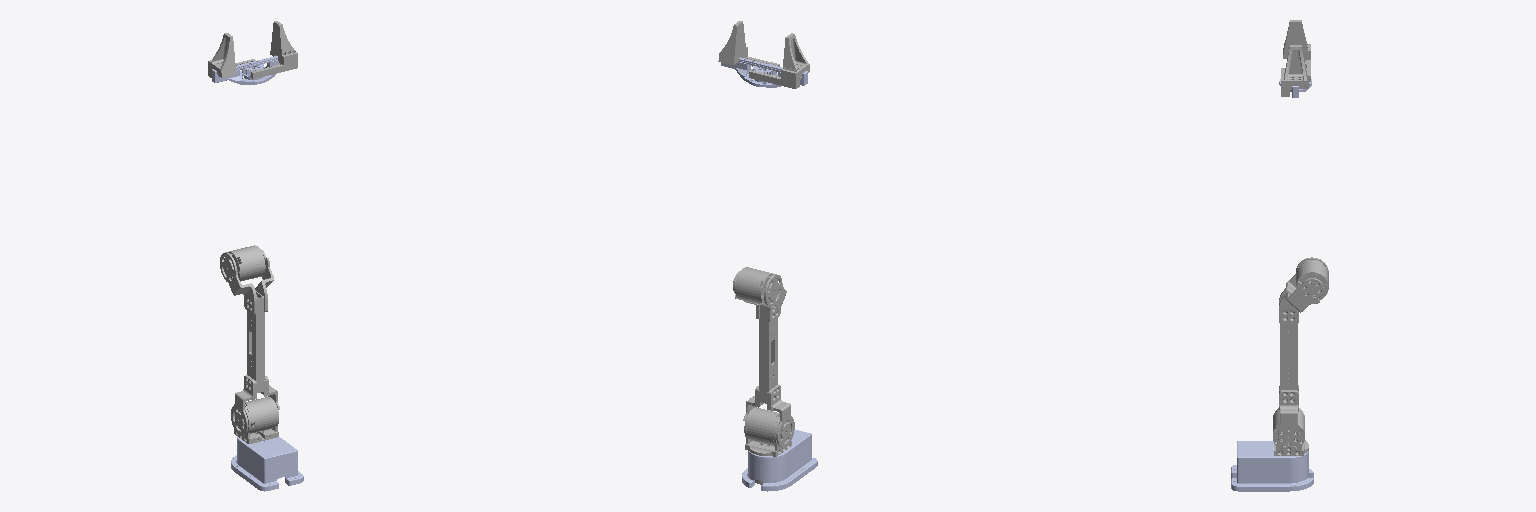
The robot description file, URDF, robot "Alicia_M_v1_0":
<?xml version="1.0" encoding="utf-8"?>
<!-- This URDF was automatically created by SolidWorks to URDF Exporter! Originally created by Stephen Brawner (brawner@gmail.com) 
     Commit Version: 1.6.0-4-g7f85cfe  Build Version: 1.6.7995.38578
     For more information, please see http://wiki.ros.org/sw_urdf_exporter -->
<robot
  name="Alicia_M_v1_0">
  <mujoco>
    <compiler meshdir="../../meshes/Alicia_M_v1_0/gripper_100mm/" balanceinertia="true" discardvisual="false" />
  </mujoco>
  <link
    name="base_link">
    <inertial>
      <origin
        xyz="7.4519E-11 -0.037929 0.033794"
        rpy="0 0 0" />
      <mass
        value="0.17762" />
      <inertia
        ixx="0.00038702"
        ixy="1.5952E-13"
        ixz="1.0229E-12"
        iyy="0.00045801"
        iyz="-3.0785E-06"
        izz="0.00022443" />
    </inertial>
    <visual>
      <origin
        xyz="0 0 0"
        rpy="0 0 0" />
      <geometry>
        <mesh
          filename="package://alicia_d_descriptions/meshes/Alicia_M_v1_0/gripper_100mm/base_link.STL" />
      </geometry>
      <material
        name="">
        <color
          rgba="0.79608 0.82353 0.93725 1" />
      </material>
    </visual>
    <collision>
      <origin
        xyz="0 0 0"
        rpy="0 0 0" />
      <geometry>
        <mesh
          filename="package://alicia_d_descriptions/meshes/Alicia_M_v1_0/gripper_100mm/base_link.STL" />
      </geometry>
    </collision>
  </link>
  <link
    name="link1">
    <inertial>
      <origin
        xyz="0.00023895 -0.00092465 0.0061005"
        rpy="0 0 0" />
      <mass
        value="0.87143" />
      <inertia
        ixx="0.00029657"
        ixy="-2.3651E-07"
        ixz="-3.3861E-08"
        iyy="0.00033942"
        iyz="1.0662E-07"
        izz="0.0003321" />
    </inertial>
    <visual>
      <origin
        xyz="0 0 0"
        rpy="0 0 0" />
      <geometry>
        <mesh
          filename="package://alicia_d_descriptions/meshes/Alicia_M_v1_0/gripper_100mm/link1.STL" />
      </geometry>
      <material
        name="">
        <color
          rgba="0.75294 0.75294 0.75294 1" />
      </material>
    </visual>
    <collision>
      <origin
        xyz="0 0 0"
        rpy="0 0 0" />
      <geometry>
        <mesh
          filename="package://alicia_d_descriptions/meshes/Alicia_M_v1_0/gripper_100mm/link1.STL" />
      </geometry>
    </collision>
  </link>
  <joint
    name="joint1"
    type="revolute">
    <origin
      xyz="0 0 -0.005"
      rpy="0 0 1.5708" />
    <parent
      link="base_link" />
    <child
      link="link1" />
    <axis
      xyz="0 0 -1" />
    <limit
      lower="-1.57"
      upper="1.57"
      effort="5"
      velocity="5" />
  </joint>
  <link
    name="link2">
    <inertial>
      <origin
        xyz="0.023144 0.2135 0.0011514"
        rpy="0 0 0" />
      <mass
        value="0.74169" />
      <inertia
        ixx="0.00068926"
        ixy="-4.2901E-05"
        ixz="7.0424E-07"
        iyy="0.0002396"
        iyz="-5.041E-07"
        izz="0.00076321" />
    </inertial>
    <visual>
      <origin
        xyz="0 0 0"
        rpy="0 0 0" />
      <geometry>
        <mesh
          filename="package://alicia_d_descriptions/meshes/Alicia_M_v1_0/gripper_100mm/link2.STL" />
      </geometry>
      <material
        name="">
        <color
          rgba="0.75294 0.75294 0.75294 1" />
      </material>
    </visual>
    <collision>
      <origin
        xyz="0 0 0"
        rpy="0 0 0" />
      <geometry>
        <mesh
          filename="package://alicia_d_descriptions/meshes/Alicia_M_v1_0/gripper_100mm/link2.STL" />
      </geometry>
    </collision>
  </link>
  <joint
    name="joint2"
    type="revolute">
    <origin
      xyz="0 0 0.038"
      rpy="1.5708 0 0" />
    <parent
      link="link1" />
    <child
      link="link2" />
    <axis
      xyz="0 0 -1" />
    <limit
      lower="-1.57"
      upper="1.57"
      effort="5"
      velocity="5" />
  </joint>
  <link
    name="link3">
    <inertial>
      <origin
        xyz="-0.025847 0.066055 -0.00021768"
        rpy="0 0 0" />
      <mass
        value="0.43964" />
      <inertia
        ixx="0.0001276"
        ixy="9.6301E-06"
        ixz="-5.5154E-07"
        iyy="0.00017462"
        iyz="7.7102E-08"
        izz="0.00014778" />
    </inertial>
    <visual>
      <origin
        xyz="0 0 0"
        rpy="0 0 0" />
      <geometry>
        <mesh
          filename="package://alicia_d_descriptions/meshes/Alicia_M_v1_0/gripper_100mm/link3.STL" />
      </geometry>
      <material
        name="">
        <color
          rgba="0.75294 0.75294 0.75294 1" />
      </material>
    </visual>
    <collision>
      <origin
        xyz="0 0 0"
        rpy="0 0 0" />
      <geometry>
        <mesh
          filename="package://alicia_d_descriptions/meshes/Alicia_M_v1_0/gripper_100mm/link3.STL" />
      </geometry>
    </collision>
  </link>
  <joint
    name="joint3"
    type="revolute">
    <origin
      xyz="0.04 0.28185 0"
      rpy="0 0 0" />
    <parent
      link="link2" />
    <child
      link="link3" />
    <axis
      xyz="0 0 -1" />
    <limit lower="0" upper="3.14" effort="5" velocity="5" />
  </joint>
  <link
    name="link4">
    <inertial>
      <origin
        xyz="8.3016E-05 0.0011014 0.16836"
        rpy="0 0 0" />
      <mass
        value="0.48086" />
      <inertia
        ixx="0.00016407"
        ixy="3.826E-08"
        ixz="1.3081E-08"
        iyy="0.00020494"
        iyz="6.4732E-07"
        izz="0.00013579" />
    </inertial>
    <visual>
      <origin
        xyz="0 0 0"
        rpy="0 0 0" />
      <geometry>
        <mesh
          filename="package://alicia_d_descriptions/meshes/Alicia_M_v1_0/gripper_100mm/link4.STL" />
      </geometry>
      <material
        name="">
        <color
          rgba="0.75294 0.75294 0.75294 1" />
      </material>
    </visual>
    <collision>
      <origin
        xyz="0 0 0"
        rpy="0 0 0" />
      <geometry>
        <mesh
          filename="package://alicia_d_descriptions/meshes/Alicia_M_v1_0/gripper_100mm/link4.STL" />
      </geometry>
    </collision>
  </link>
  <joint
    name="joint4"
    type="revolute">
    <origin
      xyz="-0.028222 0.046416 0"
      rpy="-1.5708 0 0" />
    <parent
      link="link3" />
    <child
      link="link4" />
    <axis
      xyz="0 0 1" />
    <limit
      lower="-1.57"
      upper="1.57"
      effort="5"
      velocity="5" />
  </joint>
  <link
    name="link5">
    <inertial>
      <origin
        xyz="4.2411E-05 0.052127 0.0026291"
        rpy="0 0 0" />
      <mass
        value="0.36501" />
      <inertia
        ixx="9.8752E-05"
        ixy="8.2168E-08"
        ixz="1.0205E-07"
        iyy="0.00013865"
        iyz="1.5201E-07"
        izz="0.00010578" />
    </inertial>
    <visual>
      <origin
        xyz="0 0 0"
        rpy="0 0 0" />
      <geometry>
        <mesh
          filename="package://alicia_d_descriptions/meshes/Alicia_M_v1_0/gripper_100mm/link5.STL" />
      </geometry>
      <material
        name="">
        <color
          rgba="0.75294 0.75294 0.75294 1" />
      </material>
    </visual>
    <collision>
      <origin
        xyz="0 0 0"
        rpy="0 0 0" />
      <geometry>
        <mesh
          filename="package://alicia_d_descriptions/meshes/Alicia_M_v1_0/gripper_100mm/link5.STL" />
      </geometry>
    </collision>
  </link>
  <joint
    name="joint5"
    type="revolute">
    <origin
      xyz="0 0 0.1942"
      rpy="1.5708 0 0" />
    <parent
      link="link4" />
    <child
      link="link5" />
    <axis
      xyz="0 0 -1" />
    <limit
      lower="-1.57"
      upper="1.57"
      effort="5"
      velocity="5" />
  </joint>
  <link
    name="link6">
    <inertial>
      <origin
        xyz="8.4698E-05 -0.00085164 0.033045"
        rpy="0 0 0" />
      <mass
        value="0.30235" />
      <inertia
        ixx="8.8358E-05"
        ixy="5.0322E-08"
        ixz="1.305E-07"
        iyy="8.8172E-05"
        iyz="1.661E-09"
        izz="0.00011982" />
    </inertial>
    <visual>
      <origin
        xyz="0 0 0"
        rpy="0 0 0" />
      <geometry>
        <mesh
          filename="package://alicia_d_descriptions/meshes/Alicia_M_v1_0/gripper_100mm/link6.STL" />
      </geometry>
      <material
        name="">
        <color
          rgba="0.8902 0.8902 0.91373 1" />
      </material>
    </visual>
    <collision>
      <origin
        xyz="0 0 0"
        rpy="0 0 0" />
      <geometry>
        <mesh
          filename="package://alicia_d_descriptions/meshes/Alicia_M_v1_0/gripper_100mm/link6.STL" />
      </geometry>
    </collision>
  </link>
  <joint
    name="joint6"
    type="revolute">
    <origin
      xyz="0 0.081 0"
      rpy="-1.5708 0 0" />
    <parent
      link="link5" />
    <child
      link="link6" />
    <axis
      xyz="0 0 -1" />
    <limit
      lower="-1.57"
      upper="1.57"
      effort="5"
      velocity="5" />
  </joint>
  <link
    name="grasp_link">
    <inertial>
      <origin
        xyz="-4.7244E-10 -0.00086666 -0.077544"
        rpy="0 0 0" />
      <mass
        value="0.094307" />
      <inertia
        ixx="0.00017348"
        ixy="5.4185E-12"
        ixz="3.3592E-14"
        iyy="7.8177E-06"
        iyz="1.1295E-08"
        izz="0.00017571" />
    </inertial>
    <visual>
      <origin
        xyz="0 0 0"
        rpy="0 0 0" />
      <geometry>
        <mesh
          filename="package://alicia_d_descriptions/meshes/Alicia_M_v1_0/gripper_100mm/grasp_link.STL" />
      </geometry>
      <material
        name="">
        <color
          rgba="0.79608 0.82353 0.93725 1" />
      </material>
    </visual>
    <collision>
      <origin
        xyz="0 0 0"
        rpy="0 0 0" />
      <geometry>
        <mesh
          filename="package://alicia_d_descriptions/meshes/Alicia_M_v1_0/gripper_100mm/grasp_link.STL" />
      </geometry>
    </collision>
  </link>
  <joint
    name="joint7_grasp"
    type="fixed">
    <origin
      xyz="0 0 0.151"
      rpy="0 0 0" />
    <parent
      link="link6" />
    <child
      link="grasp_link" />
    <axis
      xyz="0 0 0" />
  </joint>
  <link
    name="link8">
    <inertial>
      <origin
        xyz="-0.0051457 -0.058454 0.0078525"
        rpy="0 0 0" />
      <mass
        value="0.061665" />
      <inertia
        ixx="2.5567E-05"
        ixy="-1.0925E-06"
        ixz="-2.4316E-07"
        iyy="2.0213E-05"
        iyz="2.7427E-06"
        izz="2.0126E-05" />
    </inertial>
    <visual>
      <origin
        xyz="0 0 0"
        rpy="0 0 0" />
      <geometry>
        <mesh
          filename="package://alicia_d_descriptions/meshes/Alicia_M_v1_0/gripper_100mm/link8.STL" />
      </geometry>
      <material
        name="">
        <color
          rgba="0.75294 0.75294 0.75294 1" />
      </material>
    </visual>
    <collision>
      <origin
        xyz="0 0 0"
        rpy="0 0 0" />
      <geometry>
        <mesh
          filename="package://alicia_d_descriptions/meshes/Alicia_M_v1_0/gripper_100mm/link8.STL" />
      </geometry>
    </collision>
  </link>
  <joint
    name="joint8"
    type="prismatic">
    <origin
      xyz="0 -0.048341 0"
      rpy="1.5708 0 0" />
    <parent
      link="grasp_link" />
    <child
      link="link8" />
    <axis
      xyz="0 0 1" />
    <limit
      lower="-0.05"
      upper="0"
      effort="5"
      velocity="5" />
  </joint>
  <link
    name="link9">
    <inertial>
      <origin
        xyz="0.0051457 0.058454 0.0078525"
        rpy="0 0 0" />
      <mass
        value="0.061665" />
      <inertia
        ixx="2.5567E-05"
        ixy="-1.0925E-06"
        ixz="2.4316E-07"
        iyy="2.0213E-05"
        iyz="-2.7427E-06"
        izz="2.0126E-05" />
    </inertial>
    <visual>
      <origin
        xyz="0 0 0"
        rpy="0 0 0" />
      <geometry>
        <mesh
          filename="package://alicia_d_descriptions/meshes/Alicia_M_v1_0/gripper_100mm/link9.STL" />
      </geometry>
      <material
        name="">
        <color
          rgba="0.75294 0.75294 0.75294 1" />
      </material>
    </visual>
    <collision>
      <origin
        xyz="0 0 0"
        rpy="0 0 0" />
      <geometry>
        <mesh
          filename="package://alicia_d_descriptions/meshes/Alicia_M_v1_0/gripper_100mm/link9.STL" />
      </geometry>
    </collision>
  </link>
  <joint
    name="joint9"
    type="prismatic">
    <origin
      xyz="0 0.046641 0"
      rpy="-1.5708 0 0" />
    <parent
      link="grasp_link" />
    <child
      link="link9" />
    <axis
      xyz="0 0 -1" />
    <limit
      lower="0"
      upper="0.05"
      effort="5"
      velocity="5" />
  </joint>
</robot>

--- Facts derived from the render (not from the file) ---
3 views of the same robot in one strip: view 1: azimuth 30°, elevation 25°; view 2: azimuth 150°, elevation 25°; view 3: azimuth 270°, elevation 25° (orthographic).
Model Alicia_M_v1_0 with 10 links and 9 joints (6 revolute, 2 prismatic, 1 fixed), rooted at base_link, posed all joints at 0.
Visible links, largest first — view 1: link2, base_link, link1, link8, link9, grasp_link; view 2: link2, base_link, link1, link9, grasp_link, link8; view 3: link2, base_link, link8, link1, link9.
Boxes of the visible links, x1,y1,x2,y2 form: link2: [220, 245, 279, 435]; base_link: [231, 436, 303, 491]; link1: [234, 397, 278, 443]; link8: [251, 21, 297, 78]; link9: [208, 33, 255, 77]; grasp_link: [212, 56, 279, 84]; link2: [733, 267, 794, 447]; base_link: [742, 430, 817, 491]; link1: [744, 407, 791, 484]; link9: [749, 33, 809, 88]; grasp_link: [721, 57, 807, 87]; link8: [718, 21, 779, 72]; link2: [1273, 257, 1328, 446]; base_link: [1231, 441, 1313, 491]; link8: [1281, 45, 1308, 96]; link1: [1273, 409, 1308, 455]; link9: [1283, 20, 1310, 81].
Size in the robot's own frame: 0.165 by 0.1688 by 0.854 metres.
6 mesh visuals loaded from 10 distinct referenced files (6 binary STL); not drawn: 4 (reference not matched to a file when rendering).
